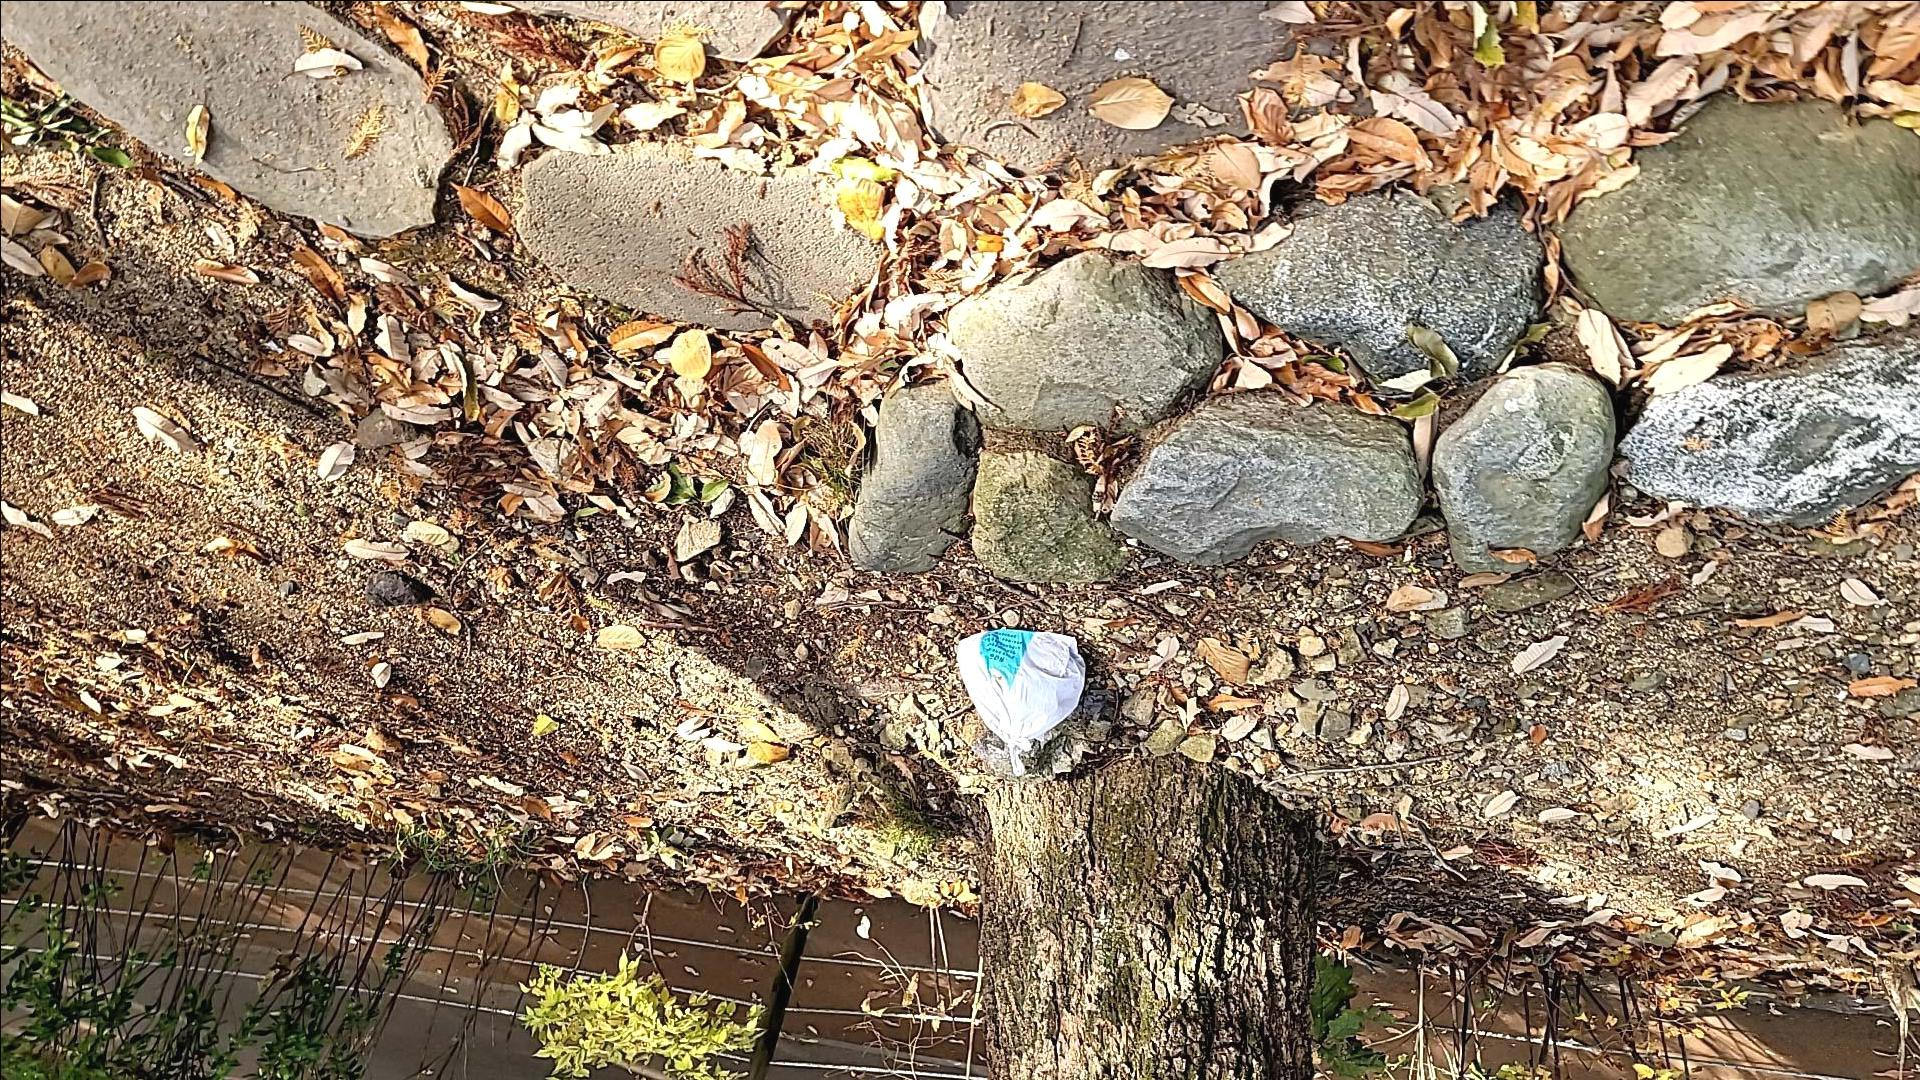white_bag: (949, 620, 1100, 787)
